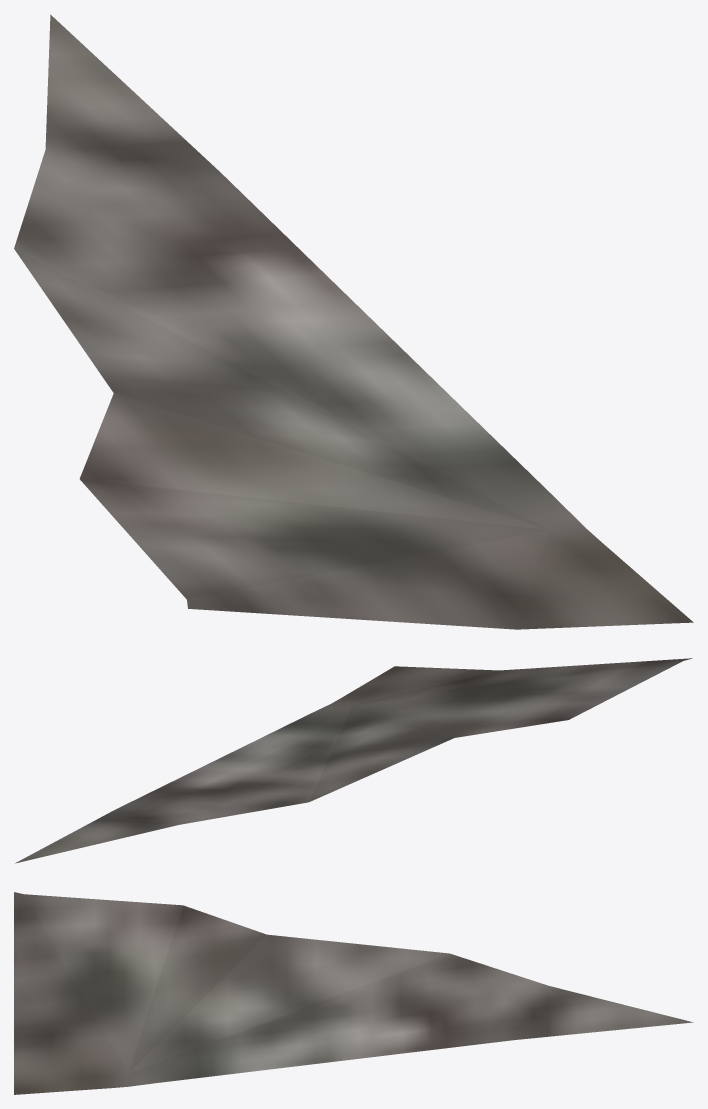
3 renders of one model, top to bottom at view 1: azimuth 30°, elevation 25°; view 2: azimuth 150°, elevation 25°; view 3: azimuth 270°, elevation 25°, orthographic. The views are drawn at different scales.
Size of the model in its own units: 0.0672 by 0.0174 by 0.148.
Materials: 1 (1 with a texture image).
